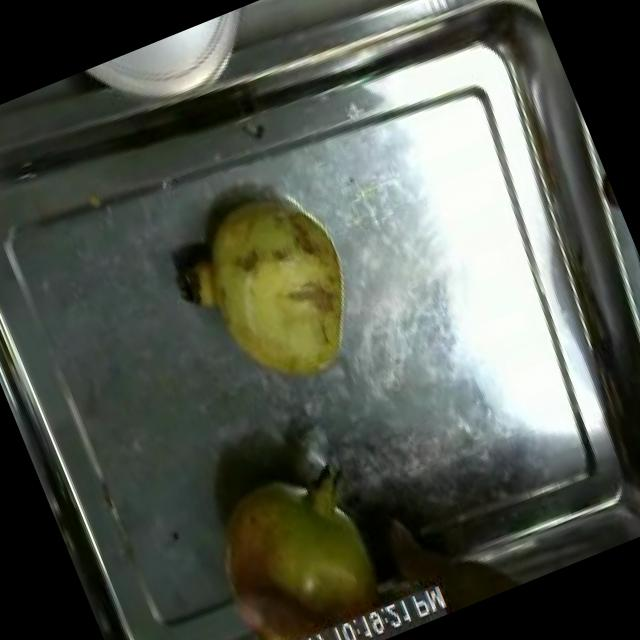fruit: (160, 163, 390, 422), (180, 441, 417, 640)
